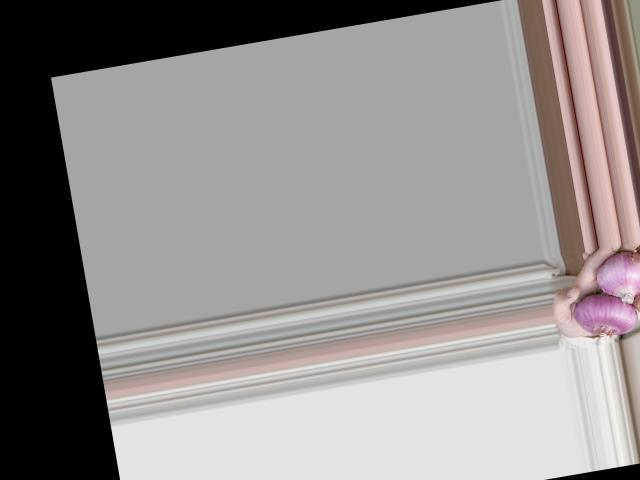onion: (572, 291, 638, 339)
